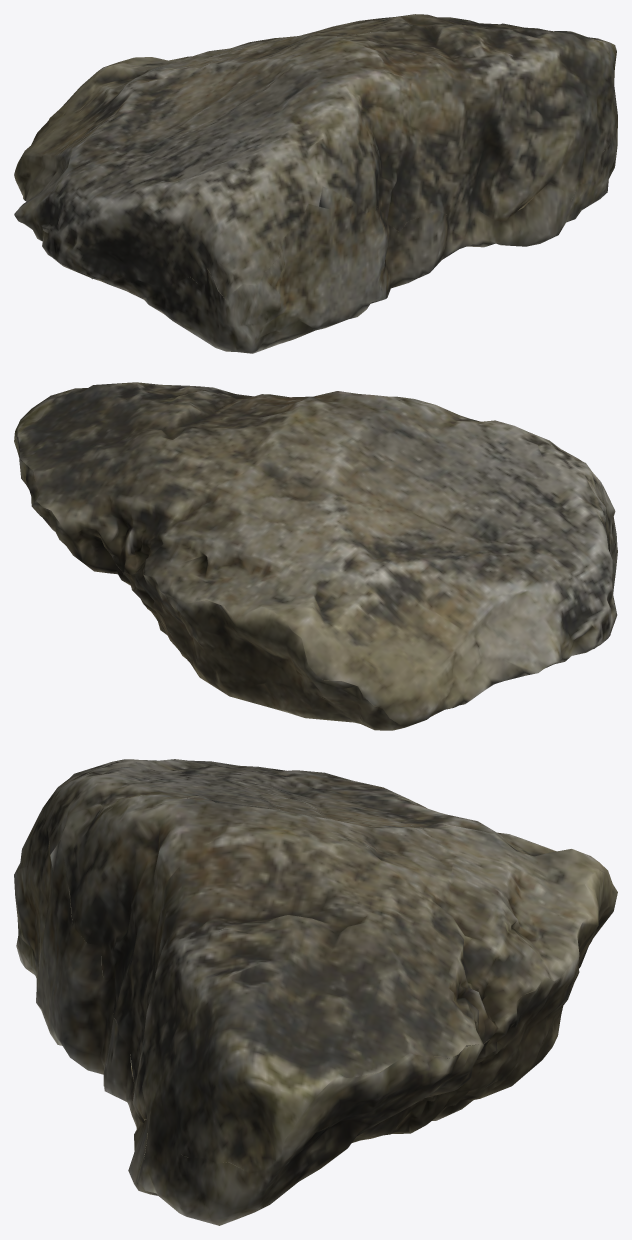
Rendered from kaya_duz.glb.
3 views of the same model, one above another, from view 1: azimuth 30°, elevation 25°; view 2: azimuth 150°, elevation 25°; view 3: azimuth 270°, elevation 25° (orthographic). The views are drawn at different scales.
Visible parts, largest first — view 1: kaya_duz_lib; view 2: kaya_duz_lib; view 3: kaya_duz_lib.
Part boxes in pixels (x1,y1,x2,y2): kaya_duz_lib: (14,14,617,353); kaya_duz_lib: (14,382,617,730); kaya_duz_lib: (14,759,617,1225).
Bounding box in the file's own units: 2.01 × 0.7 × 1.42.
1 material, 1 textured.
